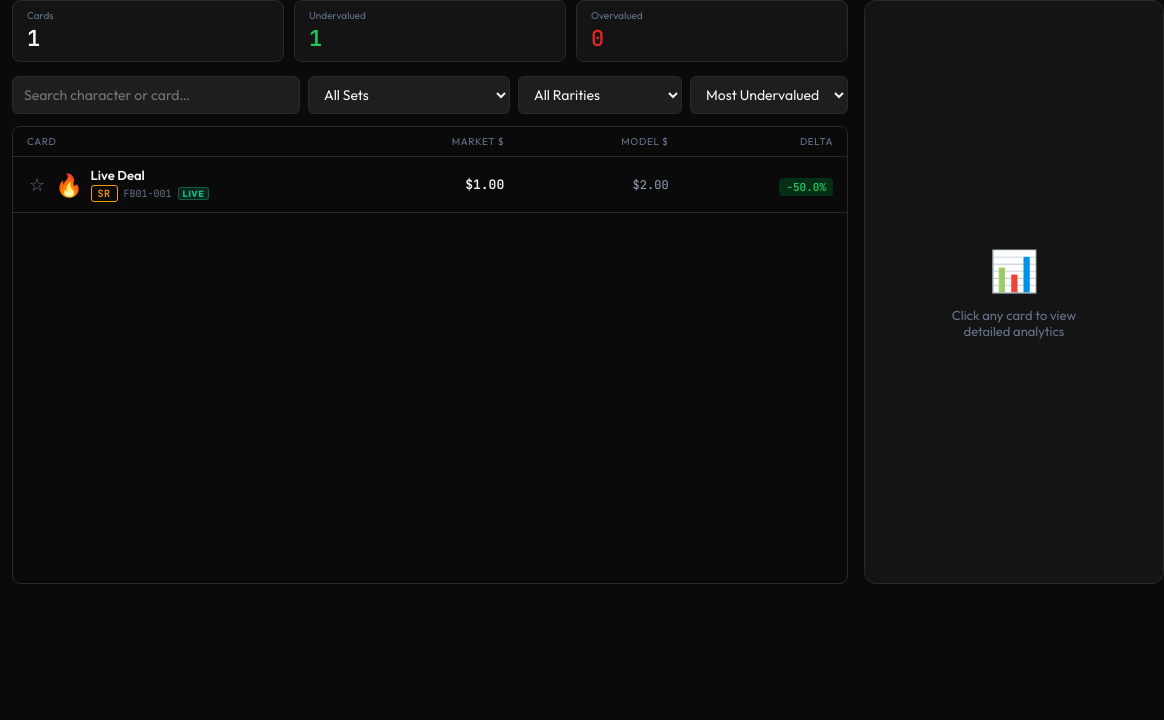
Test case: ValueScanner ranking trust rules › non-ranking price sort includes live and estimated cards
Select "Highest Price" in the 3rd dropdown showing "Most Undervalued" at (769, 95), box x1=690 y1=76 x2=848 y2=114
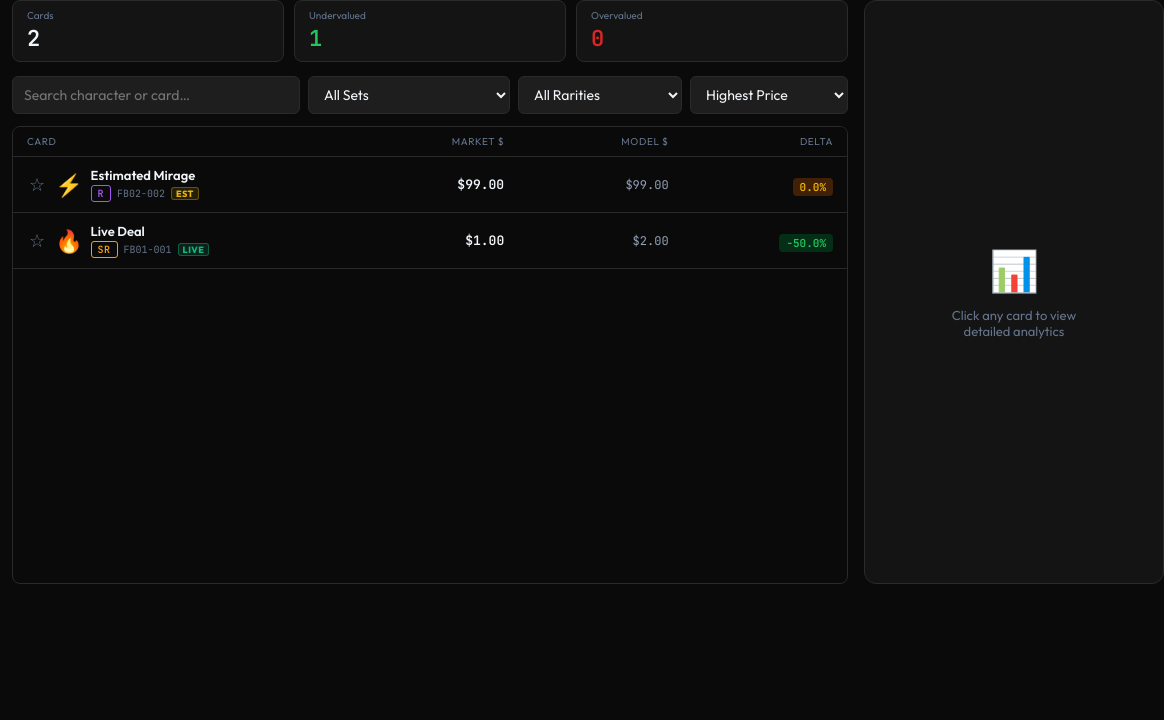
Expected: the text "Live Deal" is shown, x1=91 y1=223 x2=145 y2=239
Result: the text "Estimated Mirage" is shown at x1=91 y1=167 x2=199 y2=183
